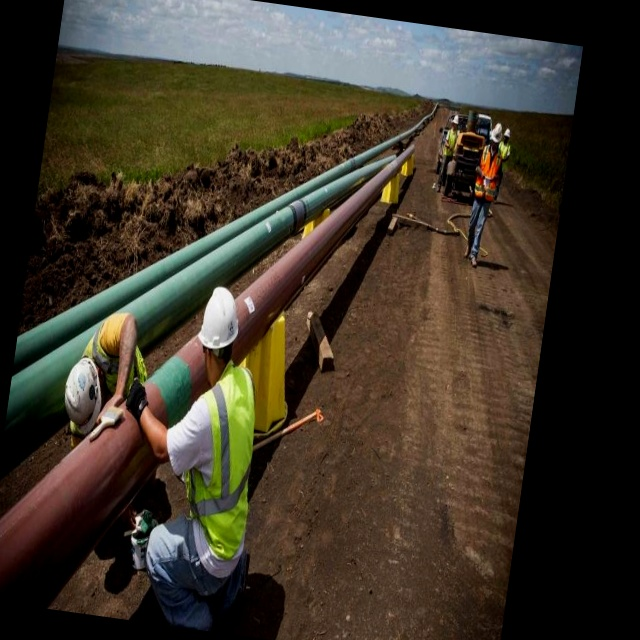Con_Casco: (194, 284, 244, 375), (58, 355, 107, 435), (489, 121, 504, 147)
Con_Chaleco: (178, 370, 267, 565), (474, 145, 505, 202)
